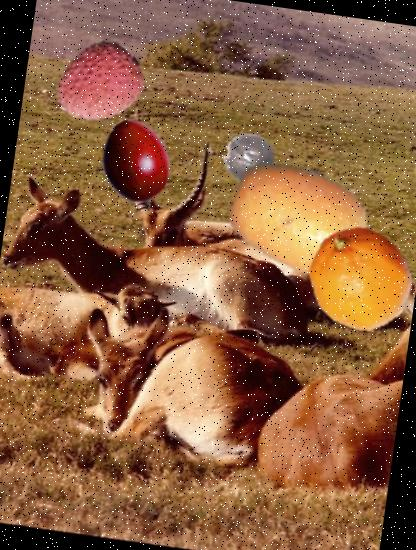Kumquats: (218, 139, 378, 298)
Lemon: (300, 219, 416, 340)
Lychee: (49, 33, 150, 135)
Passion: (219, 128, 279, 188)
Tamarillo: (86, 114, 190, 217)
